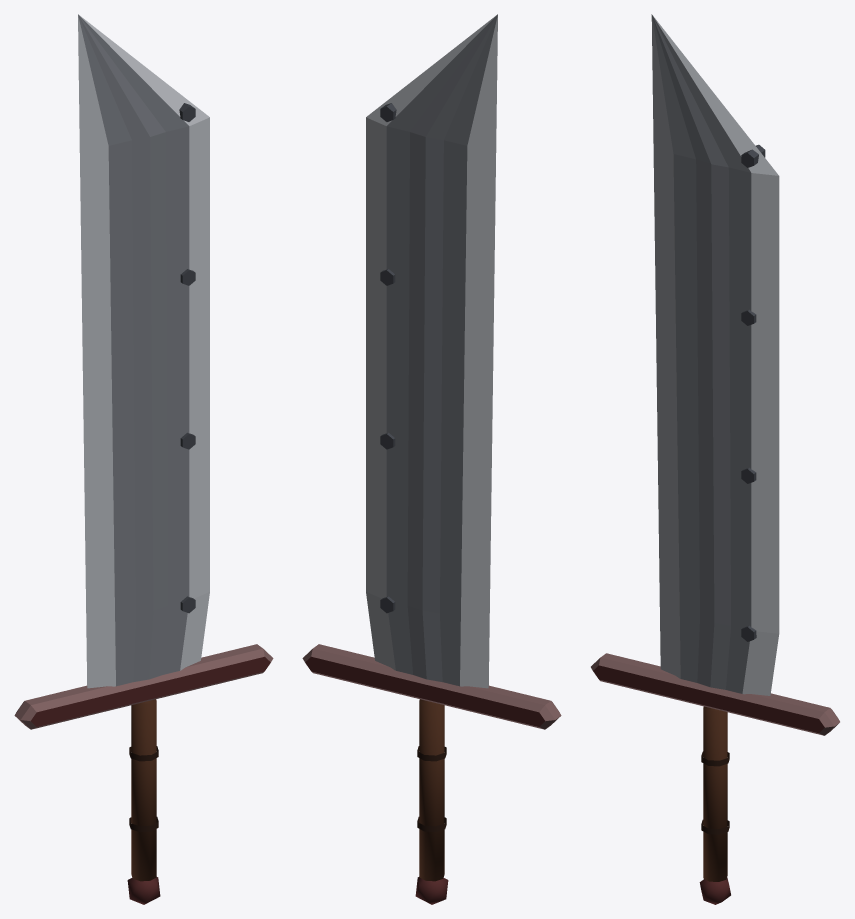
The model's file is breaker_blade.glb.
3 views of the same model, side by side, from view 1: azimuth 30°, elevation 25°; view 2: azimuth 150°, elevation 25°; view 3: azimuth 330°, elevation 25° (orthographic). The views are drawn at different scales.
Visible parts, largest first — view 1: breaker_blade_v0; view 2: breaker_blade_v0; view 3: breaker_blade_v0.
Boxes of the visible parts, <box> form: breaker_blade_v0: <box>14,14,273,904</box>; breaker_blade_v0: <box>302,14,561,904</box>; breaker_blade_v0: <box>591,14,839,904</box>.
Size of the model in its own units: 0.539 by 1.85 by 0.0578.
